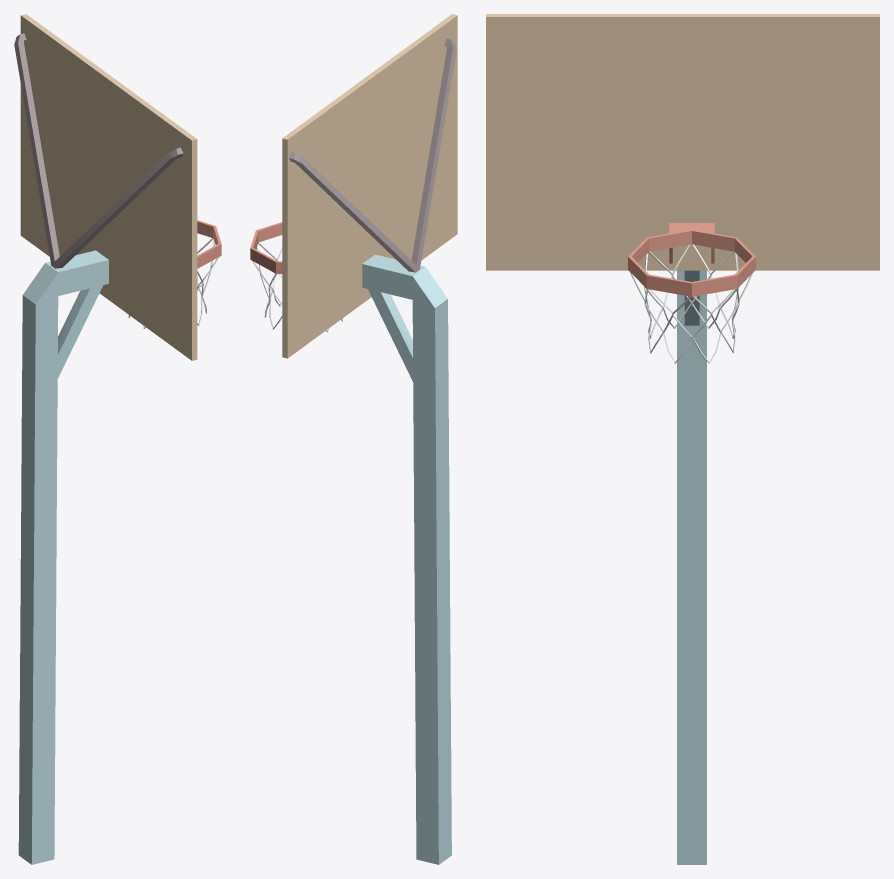
Rendered from uploads_files_3533741_basketball.fbx.
3 renders of one model, left to right at view 1: azimuth 30°, elevation 25°; view 2: azimuth 150°, elevation 25°; view 3: azimuth 270°, elevation 25°, orthographic. The views are drawn at different scales.
Parts seen in each view (by area): view 1: basketball_yard1; view 2: basketball_yard1; view 3: basketball_yard1.
Boxes of the visible parts, x1=… form: basketball_yard1: x1=14, y1=14, x2=221, y2=864; basketball_yard1: x1=250, y1=14, x2=457, y2=864; basketball_yard1: x1=486, y1=14, x2=879, y2=864.
Size of the model in its own units: 1.5 by 5.77 by 2.34.
